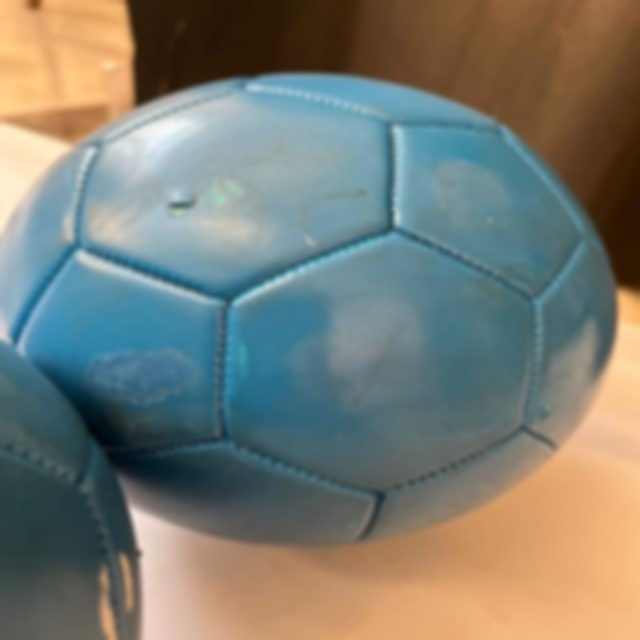blue_ball: (0, 64, 615, 547), (0, 338, 168, 640)
